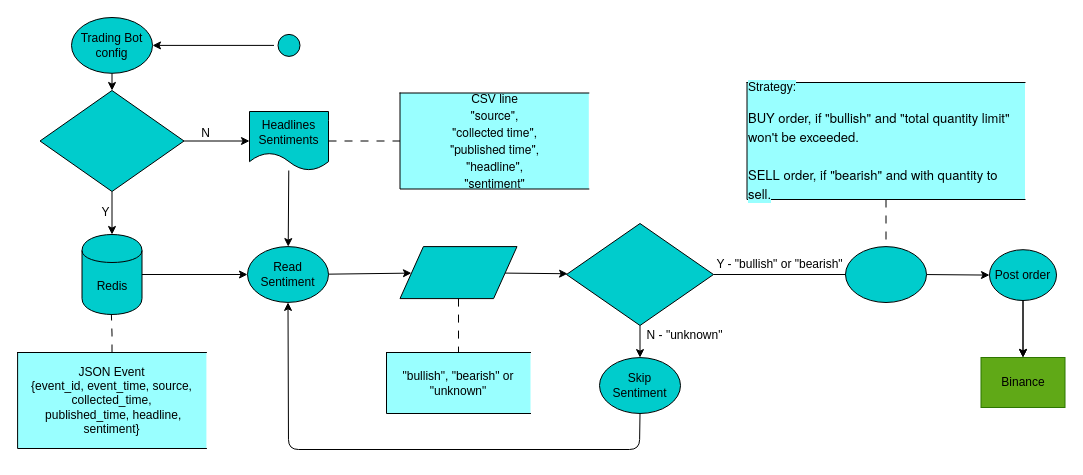
The diagram is 1083 pixels wide and 475 high, and some of its shapes have lost their labels. Each missing label, with the centre of its shape:
"Get Sentiments from Redis?" belongs at (x=111, y=141).
"Is it a known sentiment?" belongs at (x=640, y=274).
"Process Strategy" belongs at (x=885, y=274).
"Sentiment" belongs at (x=458, y=272).
